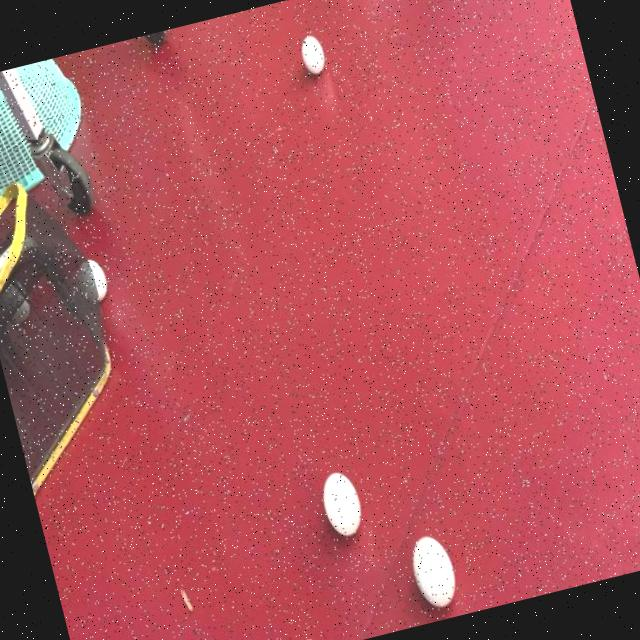ping-pong-ball: (402, 526, 462, 614), (312, 462, 368, 542), (293, 28, 329, 77)
